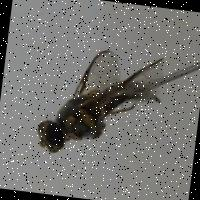Oriental-fruit-fly: (29, 31, 174, 172)
